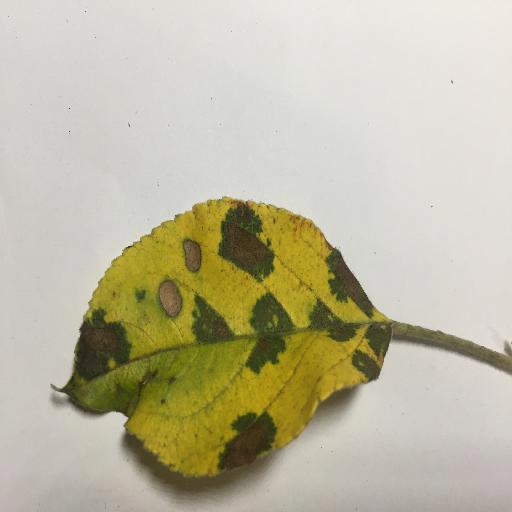Brown_Spot: (328, 253, 375, 316), (69, 320, 125, 371), (224, 226, 268, 272), (225, 420, 261, 463), (310, 307, 346, 344), (177, 239, 209, 280), (158, 282, 181, 317), (204, 314, 231, 342), (252, 337, 272, 358)
